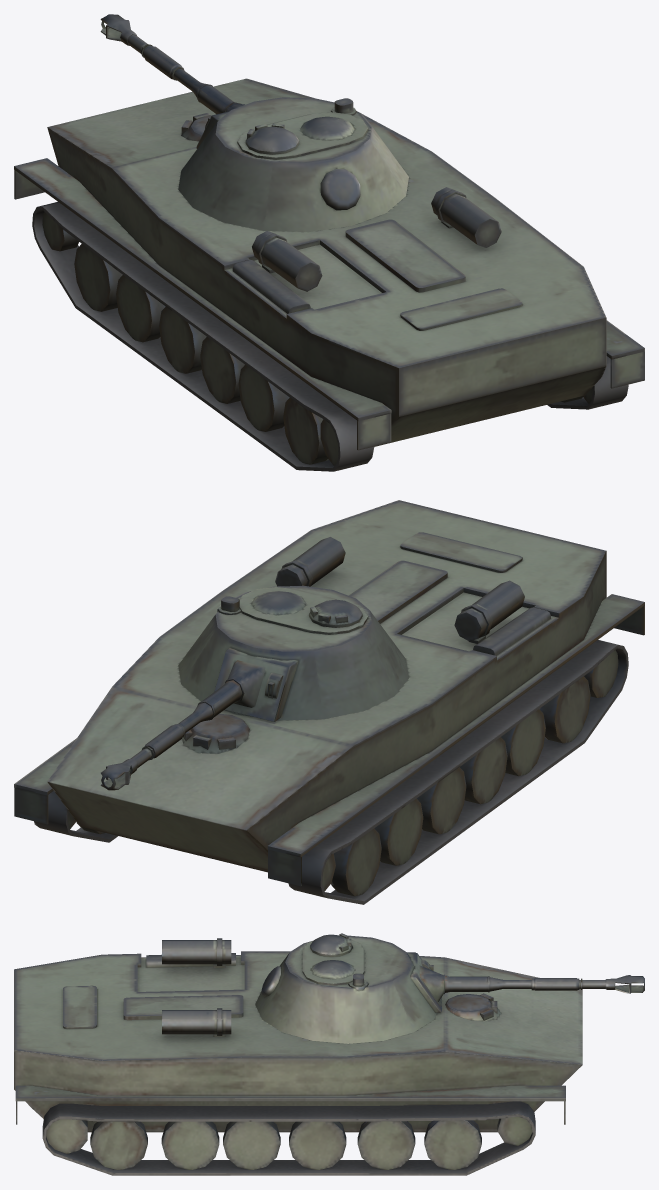
The picture shows the model from 3 angles, top to bottom: view 1: azimuth 30°, elevation 25°; view 2: azimuth 150°, elevation 25°; view 3: azimuth 270°, elevation 25°; orthographic projection. The views are drawn at different scales.
Visible parts, largest first — view 1: PT-76B Hull, PT-76B Turret; view 2: PT-76B Hull, PT-76B Turret; view 3: PT-76B Hull, PT-76B Turret.
Part boxes in pixels (x1,y1,x2,y2): PT-76B Hull: (14, 78, 644, 471); PT-76B Turret: (100, 14, 408, 231); PT-76B Hull: (14, 500, 644, 904); PT-76B Turret: (100, 585, 408, 790); PT-76B Hull: (14, 938, 582, 1175); PT-76B Turret: (255, 933, 644, 1043).
Bounding box in the file's own units: 3.23 × 2.27 × 7.67.
